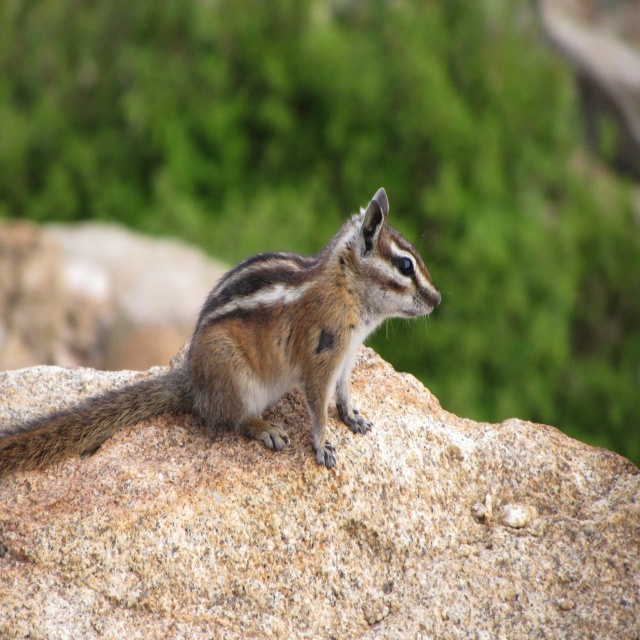Squirrel: (0, 187, 441, 480)
